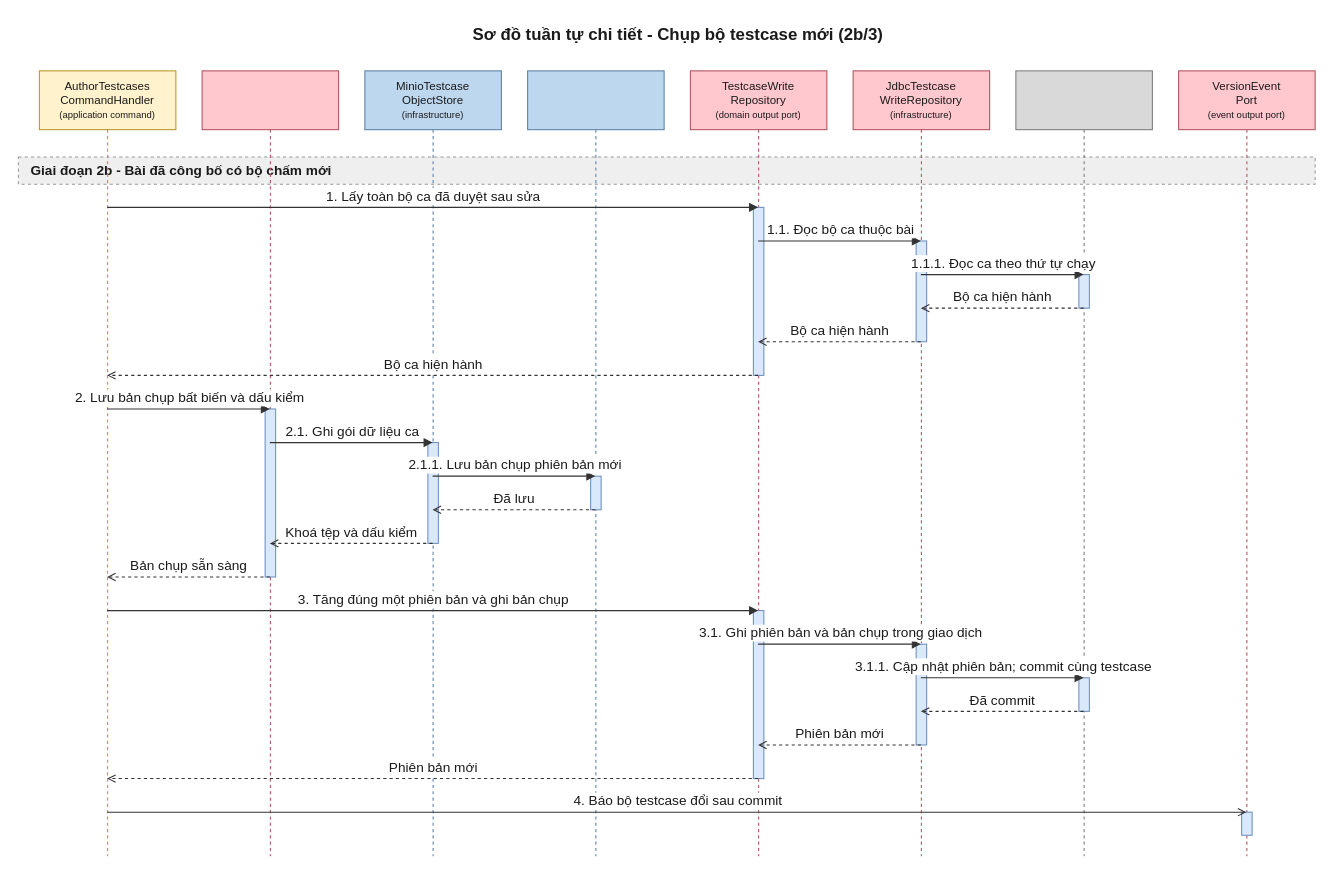
Image size: 1334x875. Some labels were removed from this diagram. Here are the shapes that lost their labels. From the top down, the box of each, then its label:
(201, 70, 339, 856): TestcaseObject StorePort (output port)
(527, 70, 664, 856): MinIO (object store)
(1015, 70, 1152, 856): PostgreSQL (schema problem)
